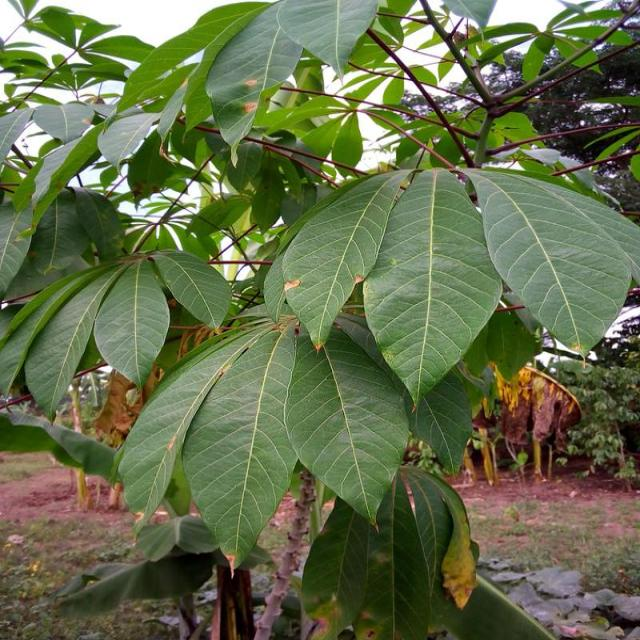cassava leaf: (362, 165, 504, 411), (462, 165, 639, 358), (181, 321, 300, 574), (277, 166, 418, 351), (284, 322, 410, 527)
